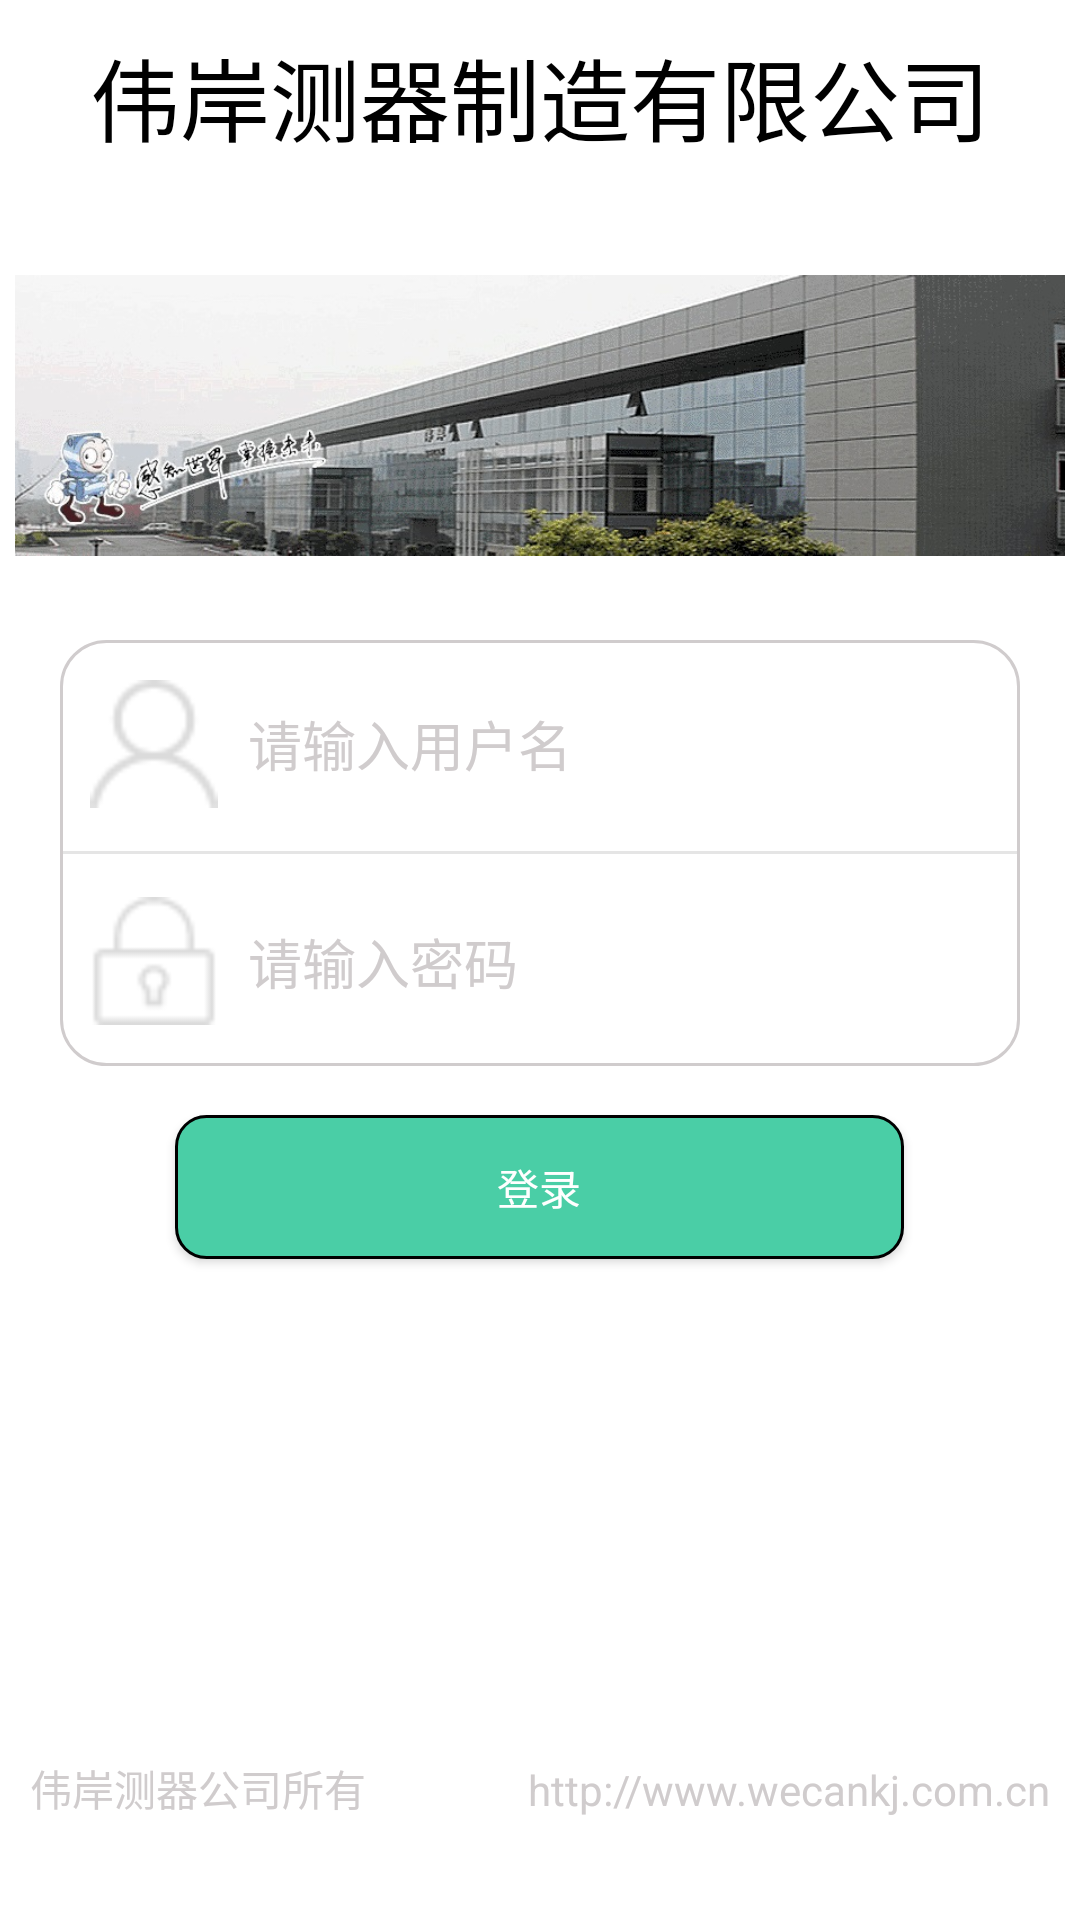

Where icons sit on this 1080 × 1920 app screen, as (x1, y1, x2, y2):
admin: (90, 680, 218, 808)
password: (95, 897, 213, 1025)
